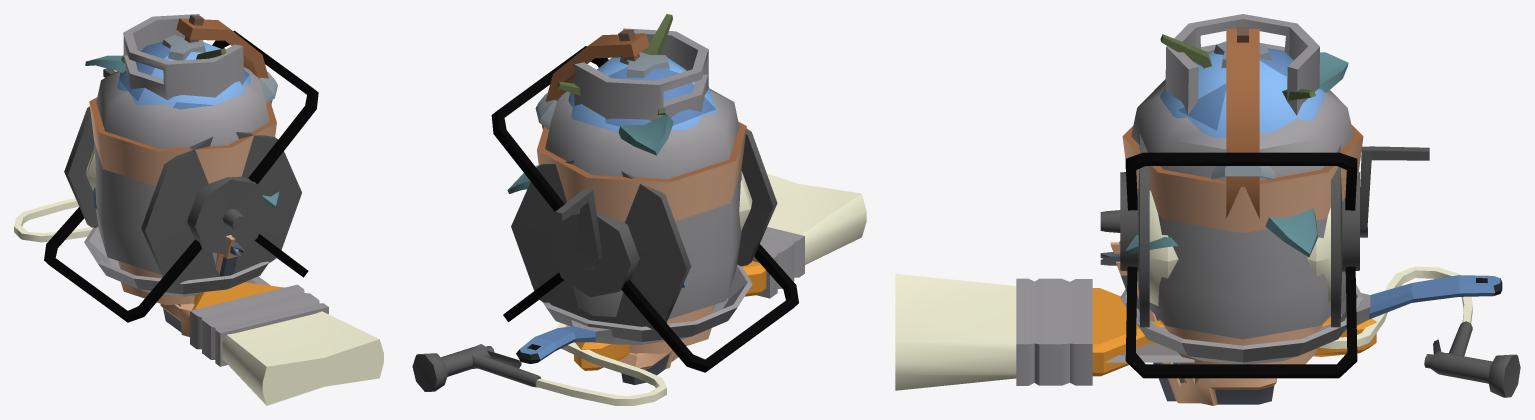
File: daoju_hj.fbx
3 views of the same model, side by side, from view 1: azimuth 30°, elevation 25°; view 2: azimuth 150°, elevation 25°; view 3: azimuth 270°, elevation 25° (orthographic). The views are drawn at different scales.
Parts seen in each view (by area): view 1: daoju12, daoju4, daoju, daoju8, daoju10, daoju15, daoju14, daoju6, daoju9; view 2: daoju12, daoju4, daoju, daoju8, daoju10, daoju15, daoju6, daoju14, daoju3, daoju9; view 3: daoju4, daoju12, daoju, daoju8, daoju10, daoju15, daoju14, daoju6, daoju3, daoju5, daoju9.
Part boxes in pixels (box(x1,y1,x2,y2)): daoju12: box(14, 30, 318, 322); daoju4: box(94, 14, 269, 274); daoju: box(189, 282, 383, 405); daoju8: box(89, 97, 276, 305); daoju10: box(117, 15, 272, 109); daoju15: box(84, 227, 269, 296); daoju14: box(160, 235, 244, 336); daoju6: box(85, 55, 279, 209); daoju9: box(259, 71, 277, 104); daoju12: box(412, 46, 798, 405); daoju4: box(545, 28, 741, 319); daoju: box(574, 173, 866, 370); daoju8: box(537, 121, 746, 354); daoju10: box(542, 29, 717, 131); daoju15: box(516, 264, 752, 363); daoju6: box(507, 114, 688, 287); daoju14: box(619, 350, 678, 384); daoju3: box(557, 14, 672, 115); daoju9: box(535, 92, 557, 129); daoju4: box(1131, 14, 1353, 339); daoju12: box(1100, 134, 1520, 397); daoju: box(895, 273, 1376, 390); daoju8: box(1122, 124, 1363, 364); daoju10: box(1160, 27, 1324, 218); daoju15: box(1120, 275, 1502, 364); daoju14: box(1100, 241, 1276, 405); daoju6: box(1125, 52, 1348, 257); daoju3: box(1160, 34, 1315, 100); daoju5: box(1104, 343, 1194, 362); daoju9: box(1211, 152, 1274, 179).
Bounding box in the file's own units: 0.00568 × 0.00822 × 0.0124.
Materials: 1 (1 with a texture image).
